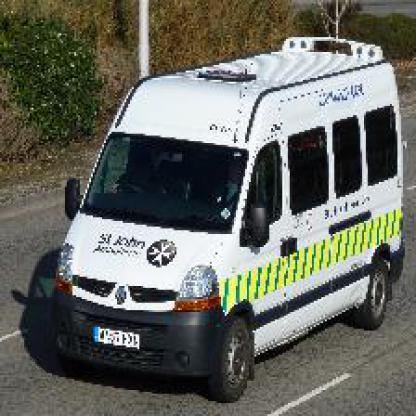emergency: (48, 32, 407, 407)
